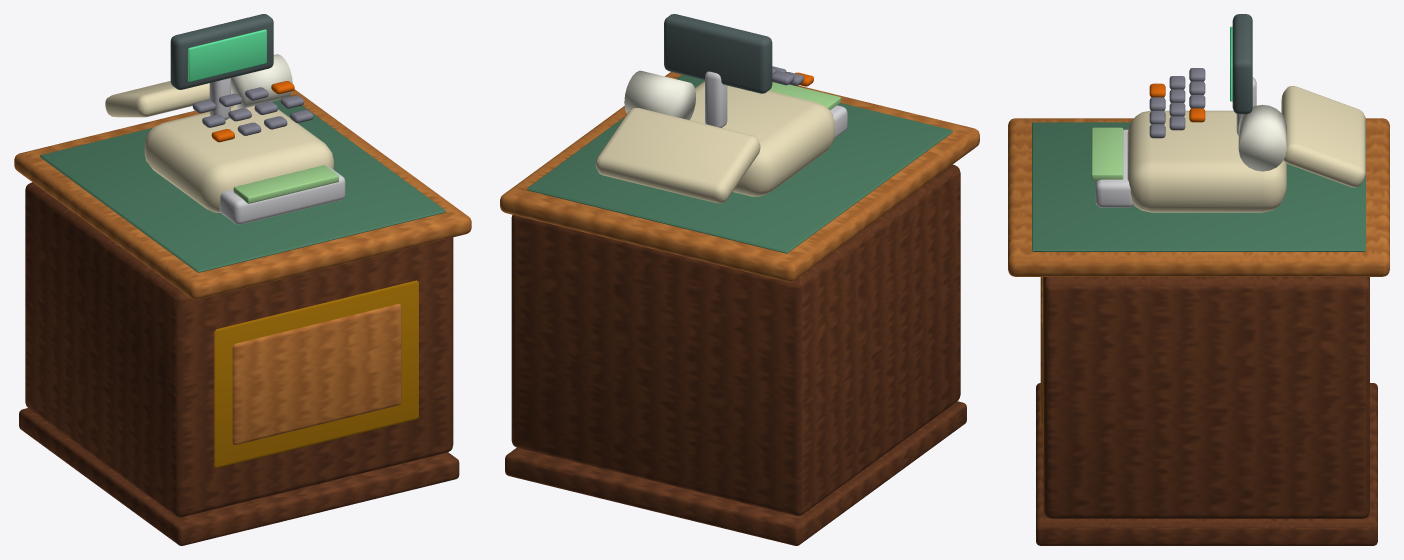
File: counter_register.glb
The picture shows the model from 3 angles, left to right: view 1: azimuth 30°, elevation 25°; view 2: azimuth 150°, elevation 25°; view 3: azimuth 270°, elevation 25°; orthographic projection. The views are drawn at different scales.
Parts seen in each view (by area): view 1: body, inlay, inner, top, plinth, inset, rbody, rscreen, rglow, rdrawer, rkeys, rnotes (+2 smaller); view 2: body, inlay, top, plinth, rkeys, rbody, rscreen, Cylinder, rpole, rnotes; view 3: body, inlay, top, rbody, plinth, rkeys, Cylinder, rscreen, rnotes, rdrawer.
Boxes of the visible parts, <box> form: body: <box>25,182,453,517</box>; inlay: <box>40,96,445,272</box>; inner: <box>232,304,401,445</box>; top: <box>14,89,471,299</box>; plinth: <box>19,408,459,545</box>; inset: <box>214,280,418,468</box>; rbody: <box>144,106,333,212</box>; rscreen: <box>170,14,273,89</box>; rglow: <box>188,29,266,82</box>; rdrawer: <box>219,166,345,224</box>; rkeys: <box>105,81,209,117</box>; rnotes: <box>233,165,338,203</box>; body: <box>511,164,960,515</box>; inlay: <box>527,74,952,253</box>; top: <box>500,72,979,281</box>; plinth: <box>505,401,966,545</box>; rkeys: <box>595,108,760,203</box>; rbody: <box>690,81,835,196</box>; rscreen: <box>664,14,772,93</box>; Cylinder: <box>624,70,695,120</box>; rpole: <box>705,71,727,127</box>; rnotes: <box>769,82,840,109</box>; body: <box>1043,277,1369,518</box>; inlay: <box>1032,122,1365,251</box>; top: <box>1008,118,1389,276</box>; rbody: <box>1127,110,1286,212</box>; plinth: <box>1036,383,1377,545</box>; rkeys: <box>1281,86,1365,187</box>; Cylinder: <box>1238,104,1286,171</box>; rscreen: <box>1232,14,1252,114</box>; rnotes: <box>1091,127,1123,180</box>; rdrawer: <box>1095,129,1133,207</box>.
Size of the model in its own units: 0.43 by 0.6075 by 0.48.
12 materials, 2 textured.
